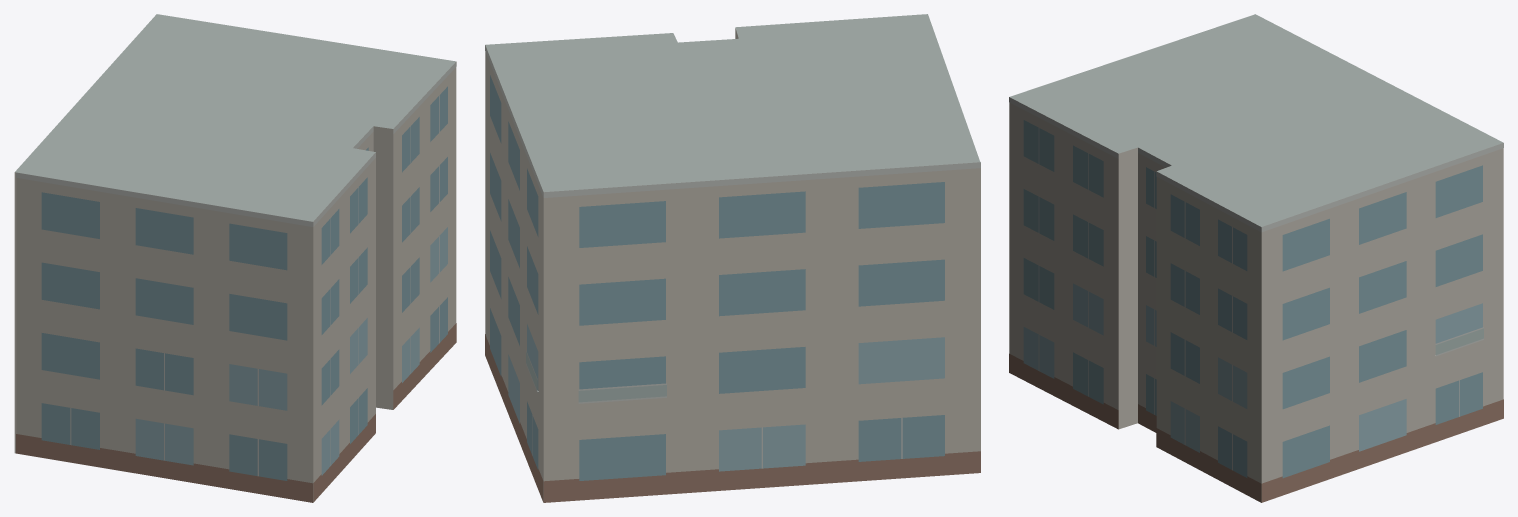
The model's file is survey-upis-32984027.glb.
3 views of the same model, side by side, from view 1: azimuth 30°, elevation 25°; view 2: azimuth 150°, elevation 25°; view 3: azimuth 270°, elevation 25° (orthographic). The views are drawn at different scales.
Visible parts, largest first — view 1: survey-upis-32984027.tmp; view 2: survey-upis-32984027.tmp; view 3: survey-upis-32984027.tmp.
Part boxes in pixels (left/top/right/bottom): survey-upis-32984027.tmp: left=14, top=14, right=456, bottom=502; survey-upis-32984027.tmp: left=485, top=14, right=980, bottom=502; survey-upis-32984027.tmp: left=1009, top=14, right=1503, bottom=502.
Bounding box in the file's own units: 21.23 × 12.8 × 20.82.
